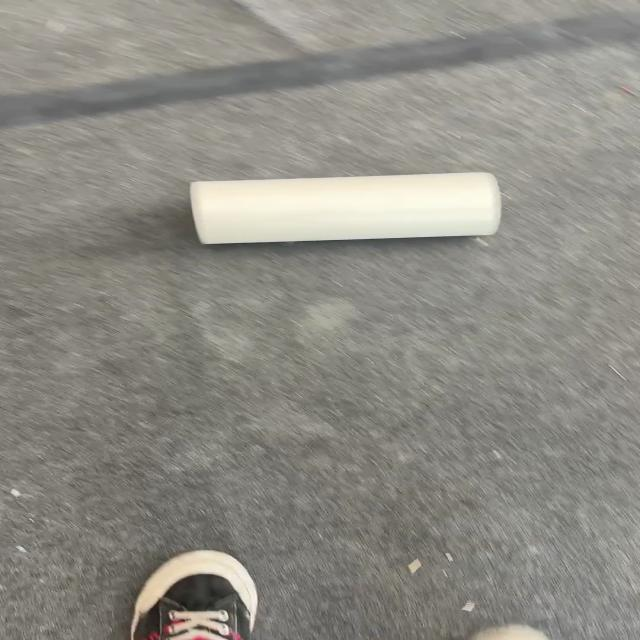Coral: (188, 170, 502, 245)
